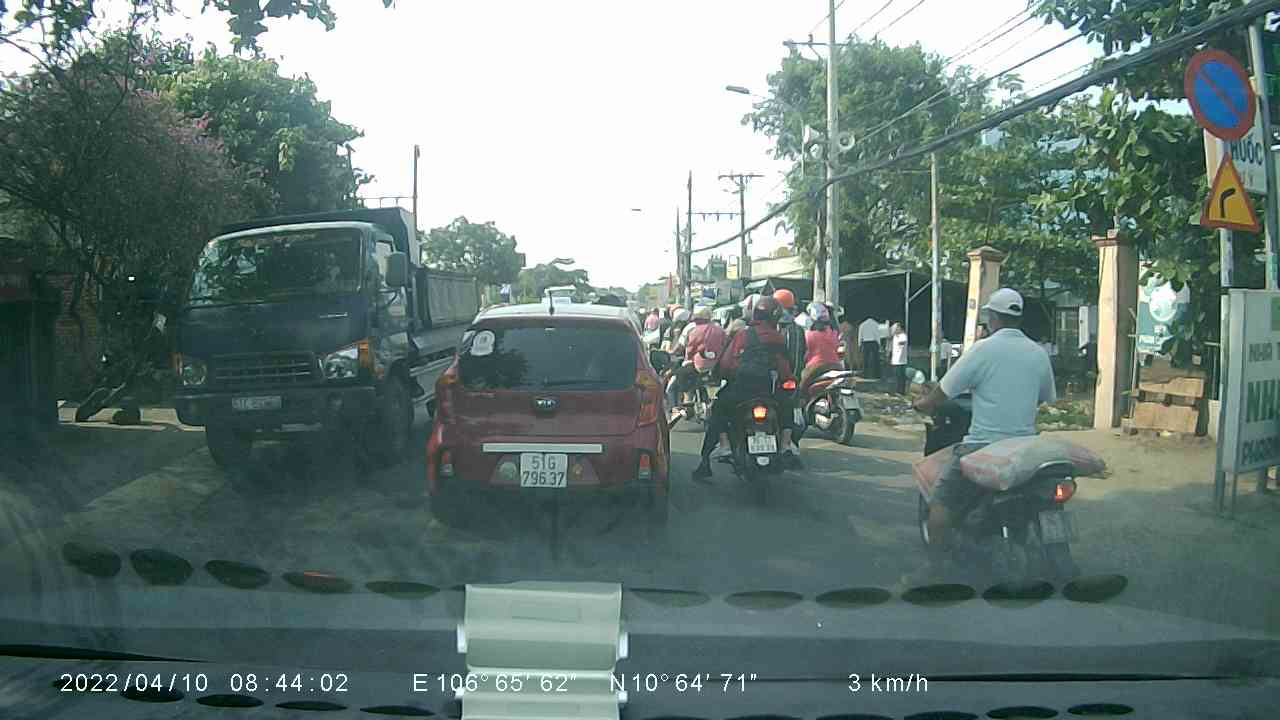Bien khac: (1196, 149, 1264, 235)
Cam do xe: (1180, 46, 1263, 138)
